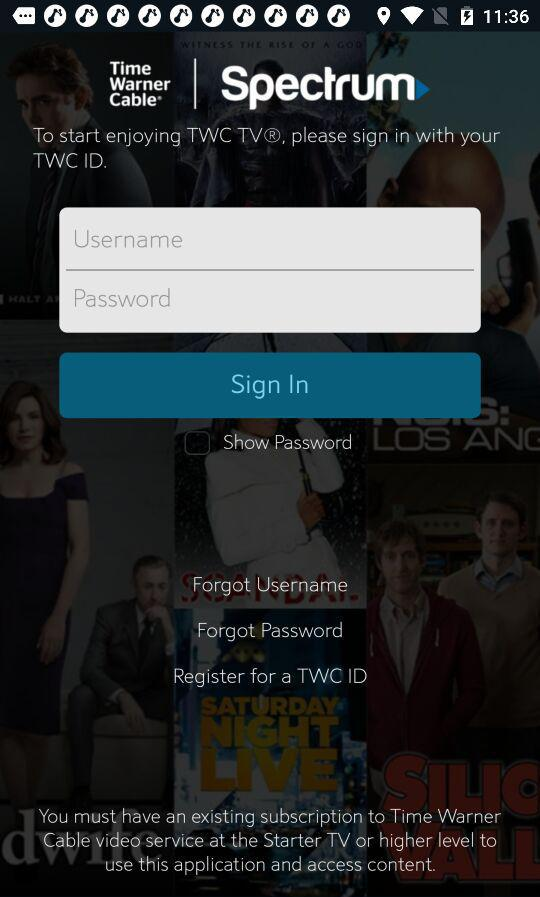BackgroundImage: (1, 33, 540, 897)
CheckedTextView: (184, 430, 352, 457)
EditText: (60, 207, 482, 272), (60, 270, 481, 334)
Image: (221, 65, 431, 112)
Text: (39, 808, 502, 876), (32, 127, 501, 172), (174, 667, 368, 688), (193, 575, 348, 598), (198, 621, 343, 643), (109, 61, 172, 109), (224, 434, 352, 451), (76, 230, 183, 249), (76, 289, 171, 308)
TextButton: (59, 352, 481, 419)
UpperTaskBar: (1, 1, 540, 33)
